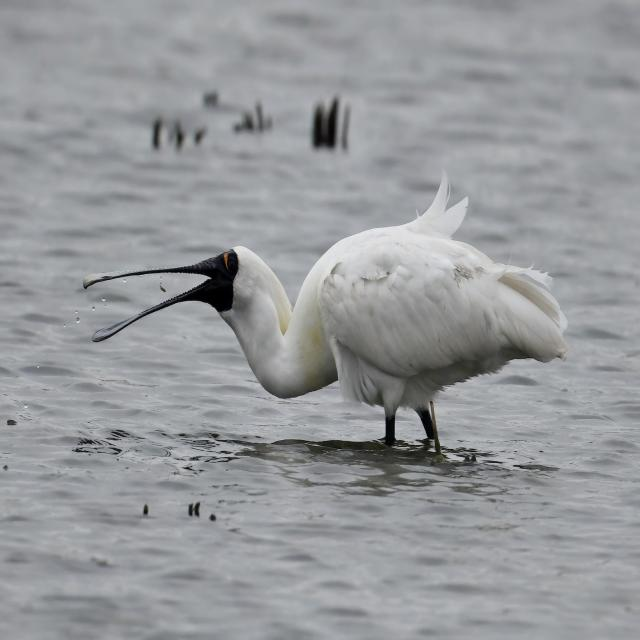Black-faced spoonbill: (84, 174, 566, 449)
